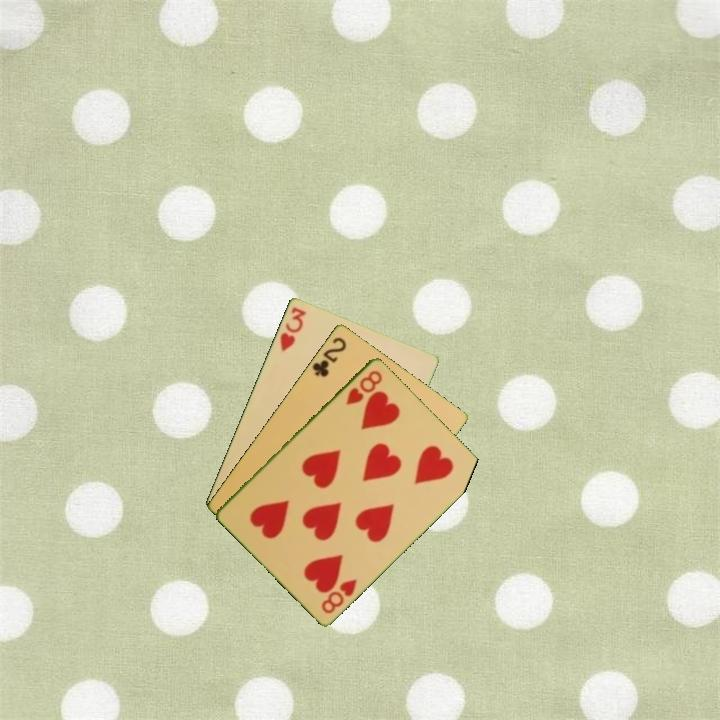2c: (308, 333, 349, 380)
3h: (276, 303, 309, 354)
8h: (342, 366, 385, 408), (318, 575, 360, 616)
